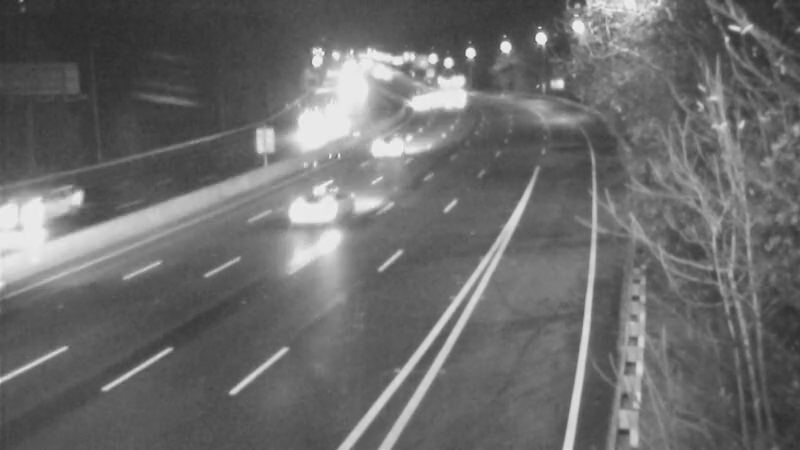vehicle: (288, 167, 368, 247), (1, 171, 77, 251), (422, 58, 472, 108), (429, 79, 479, 129), (389, 74, 439, 124), (364, 124, 414, 174), (287, 99, 337, 149)
